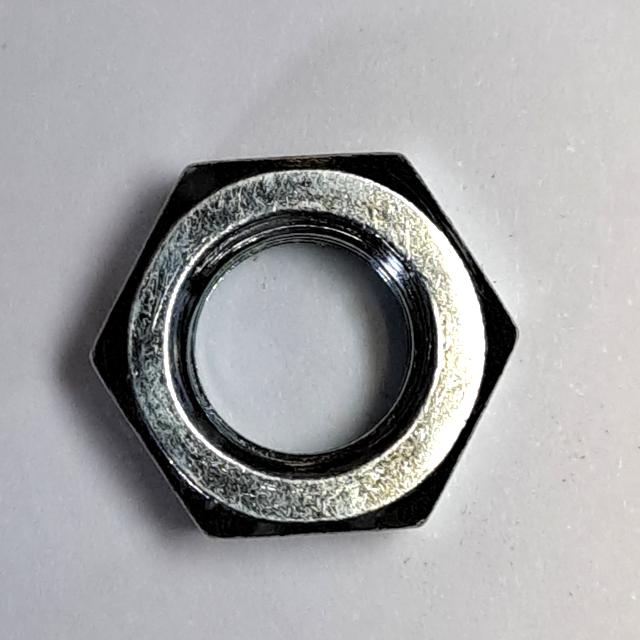Excellent: (79, 141, 530, 551)
